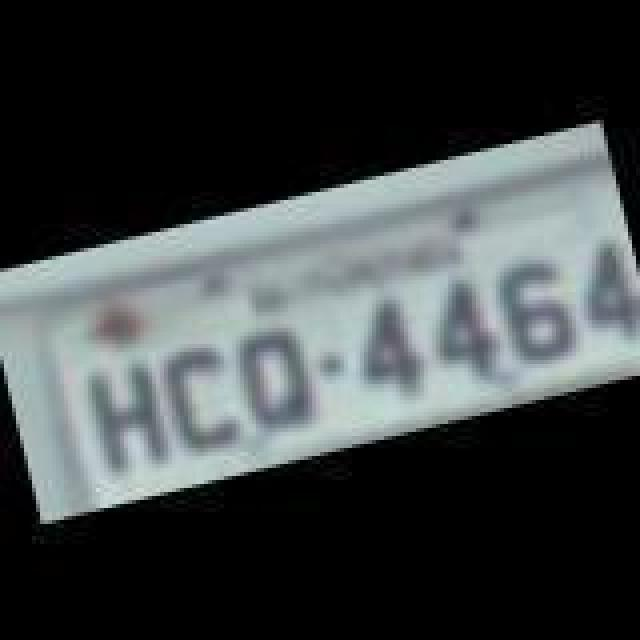4: (334, 282, 434, 406), (414, 268, 506, 388), (562, 228, 638, 356)
6: (486, 246, 586, 370)
C: (154, 334, 246, 458)
H: (80, 352, 176, 480)
Q: (220, 308, 324, 444)
